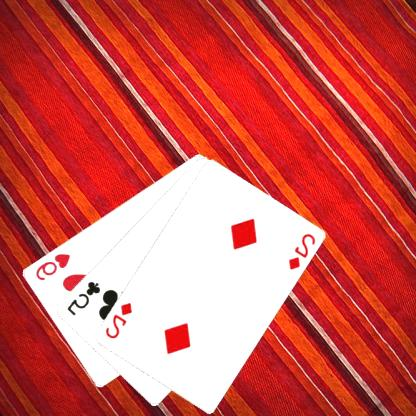2D: (286, 231, 318, 271), (104, 300, 135, 340)
5C: (65, 278, 104, 317)
6H: (34, 250, 73, 282)
